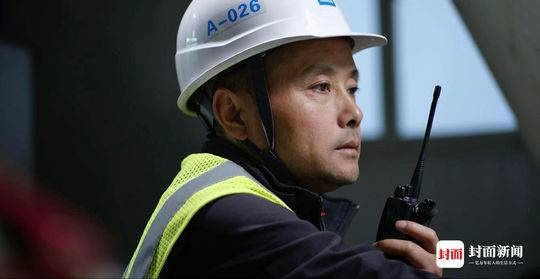white: (172, 1, 376, 190)
